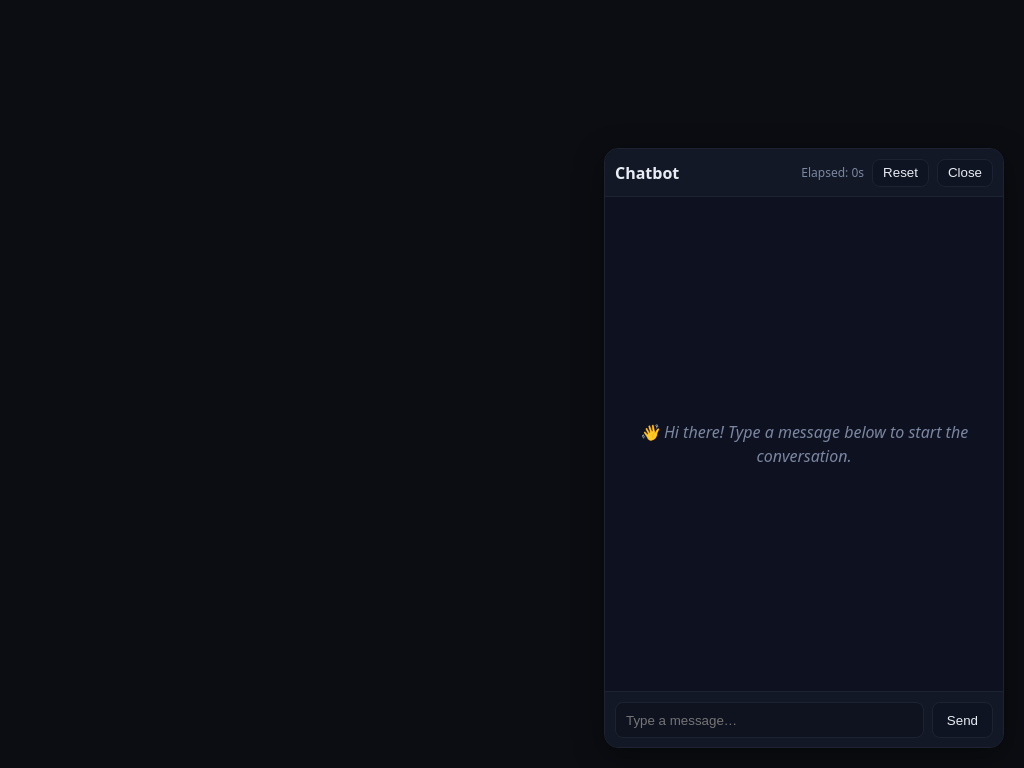
Test case: ChatWindow › Reset clears messages and resets the timer
In the field labelled "Type a message…": (769, 720) [615,702,924,738], type "One"
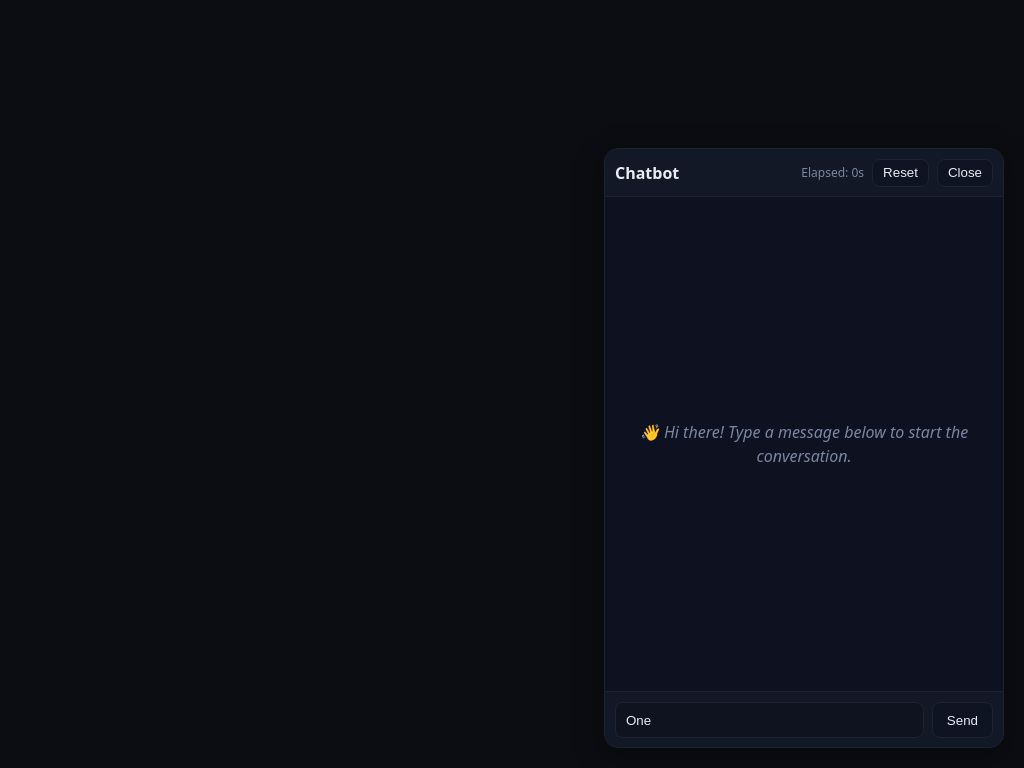
Press Enter in the field named "Type a message", box [615,702,924,738]
Wait 3500 ms
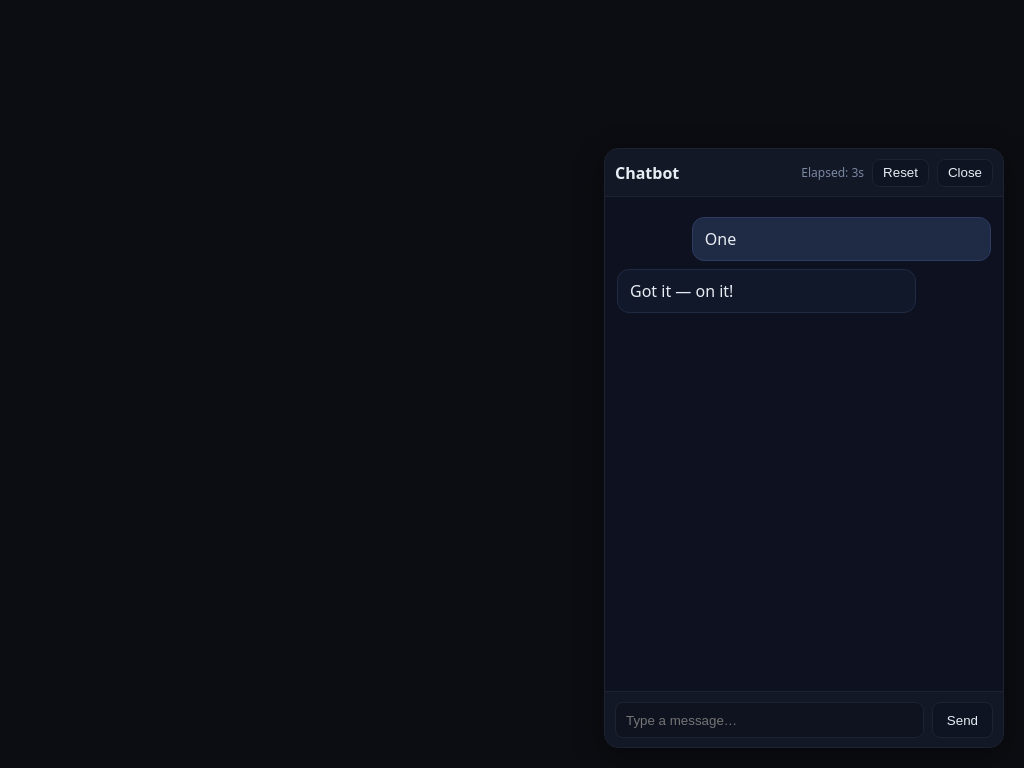
Check: the text "Chatbot Elapsed: 3s Reset Close" is shown, box [605,149,1003,197]
Click the button named "reset chat": (900, 172) [872,158,929,186]
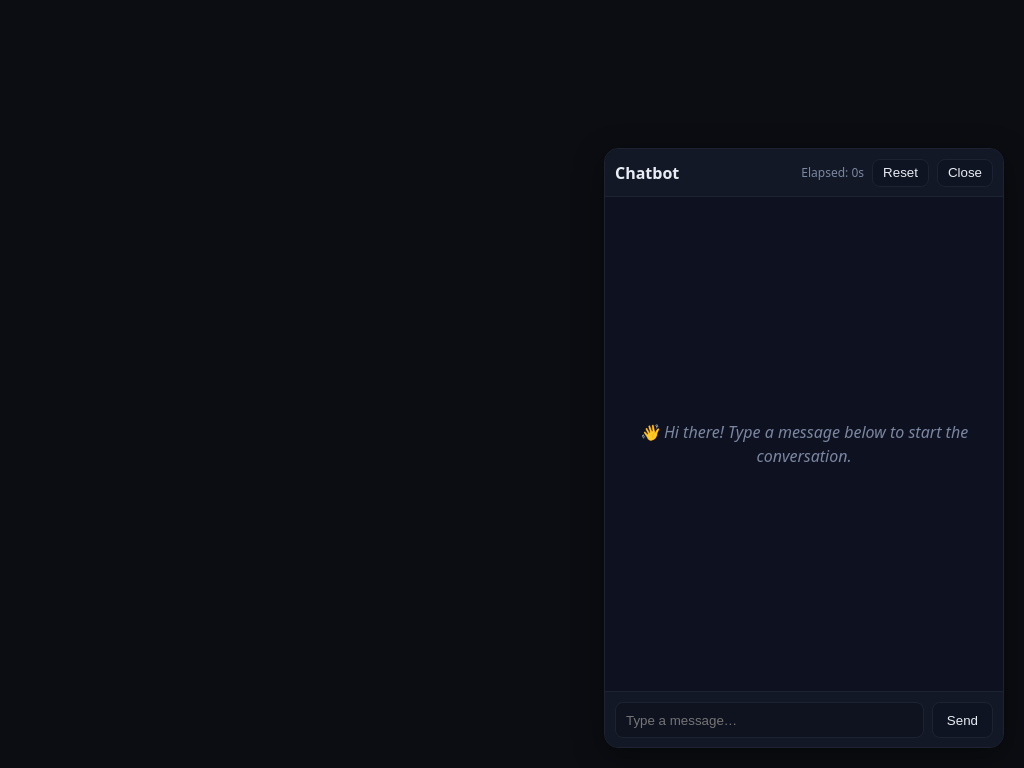
Check: no list items with class "chat-bubble" are shown
Check: the text "Chatbot Elapsed: 0s Reset Close" is shown, box [605,149,1003,197]
